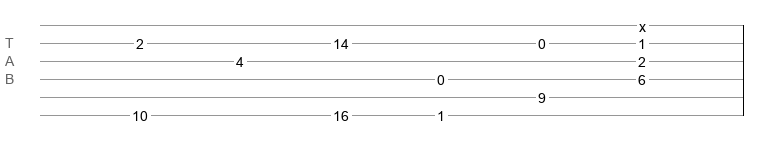0: (437, 72, 445, 82), (538, 36, 546, 46)
1: (437, 108, 445, 118), (638, 36, 646, 46)
10: (132, 108, 148, 118)
14: (333, 36, 349, 46)
16: (333, 108, 349, 118)
2: (136, 36, 144, 46), (638, 54, 646, 64)
4: (236, 54, 244, 64)
6: (638, 72, 646, 82)
9: (538, 90, 546, 100)
x: (639, 19, 646, 27)
